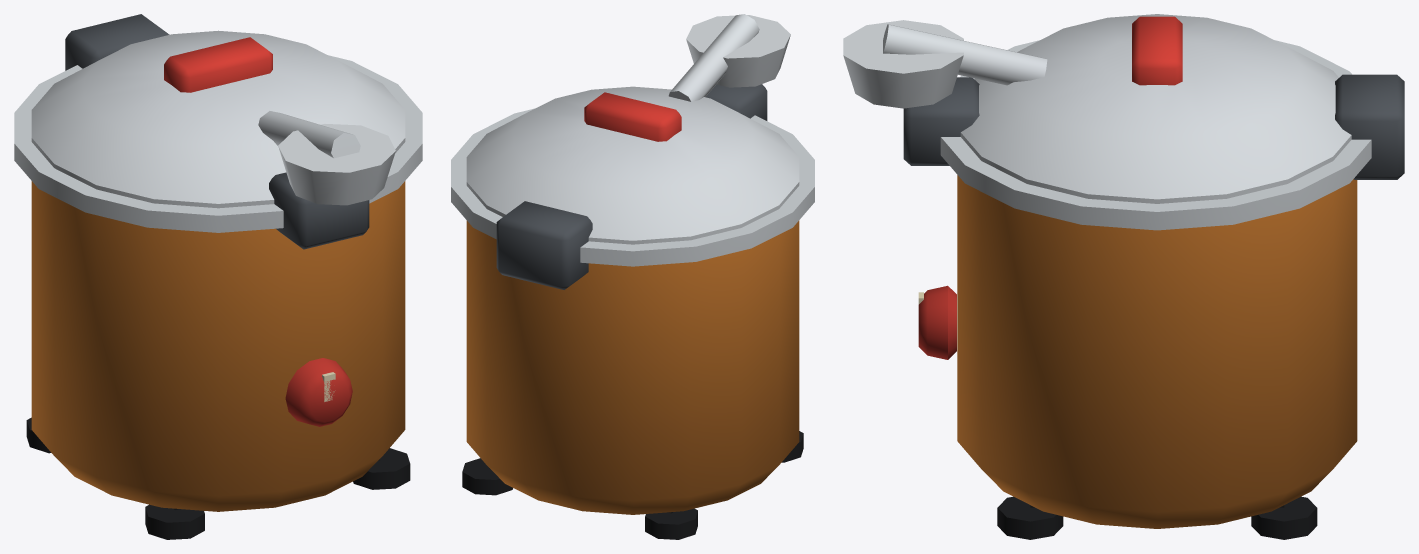
Rendered from SM_SoupKettle_01.glb.
3 renders of one model, left to right at view 1: azimuth 30°, elevation 25°; view 2: azimuth 150°, elevation 25°; view 3: azimuth 270°, elevation 25°, orthographic. The views are drawn at different scales.
Parts seen in each view (by area): view 1: SM_SoupKettle_01; view 2: SM_SoupKettle_01; view 3: SM_SoupKettle_01.
Part boxes in pixels (x1,y1,x2,y2): SM_SoupKettle_01: [14, 14, 422, 539]; SM_SoupKettle_01: [451, 14, 814, 539]; SM_SoupKettle_01: [843, 14, 1404, 539].
Size of the model in its own units: 0.35 by 0.3891 by 0.4426.
Materials: 1 (1 with a texture image).
